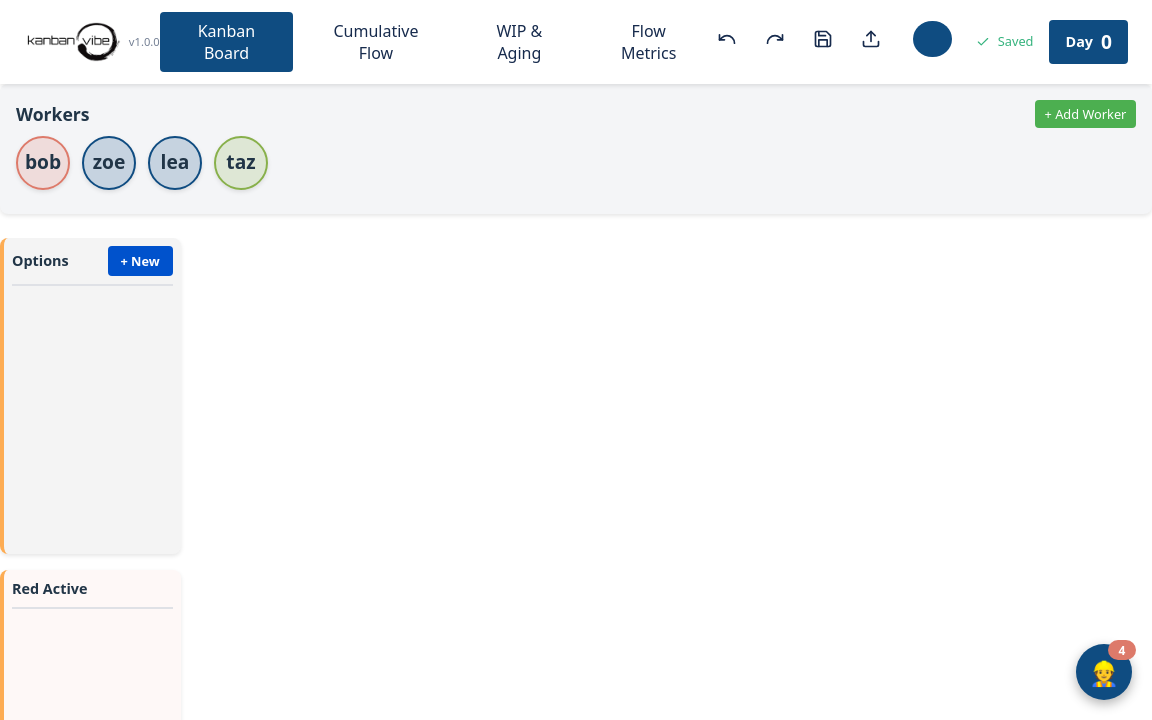
it: Worker Management › shows worker type selection when Add Worker button is clicked
Click the button "+ Add Worker": click(1085, 114) [1035,100,1136,128]
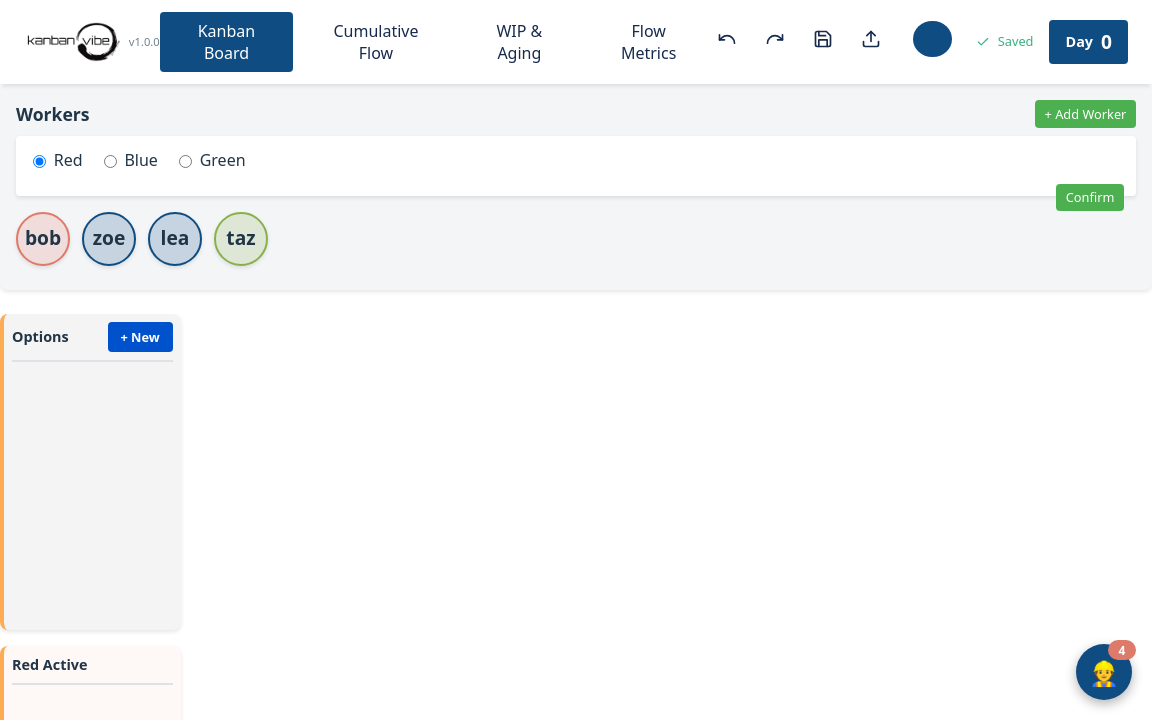
Expected: the radio button labelled "Red" is shown, [33,155,46,168]
Expected: the radio button labelled "Blue" is shown, [104,155,117,168]
Expected: the radio button labelled "Green" is shown, [179,155,192,168]
